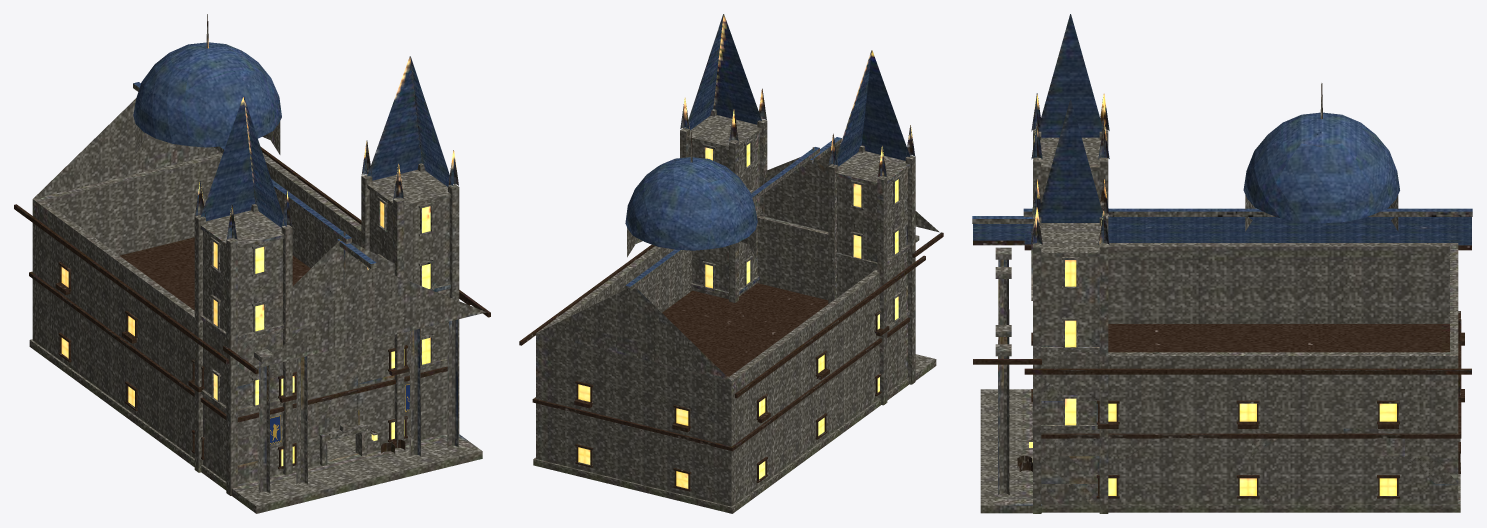
The model's file is bld_temple_card_lod1.glb.
3 views of the same model, side by side, from view 1: azimuth 30°, elevation 25°; view 2: azimuth 150°, elevation 25°; view 3: azimuth 270°, elevation 25° (orthographic). The views are drawn at different scales.
Visible parts, largest first — view 1: temple_card; view 2: temple_card; view 3: temple_card.
Boxes of the visible parts, bbox=[...] form: temple_card: bbox=[14, 14, 490, 513]; temple_card: bbox=[519, 14, 943, 513]; temple_card: bbox=[972, 14, 1472, 513].
Size of the model in its own units: 26.45 by 39.1 by 44.54.
Materials: 1 (1 with a texture image).
